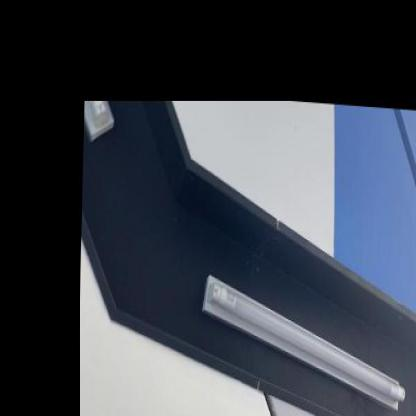light_off: (197, 248, 415, 414)
